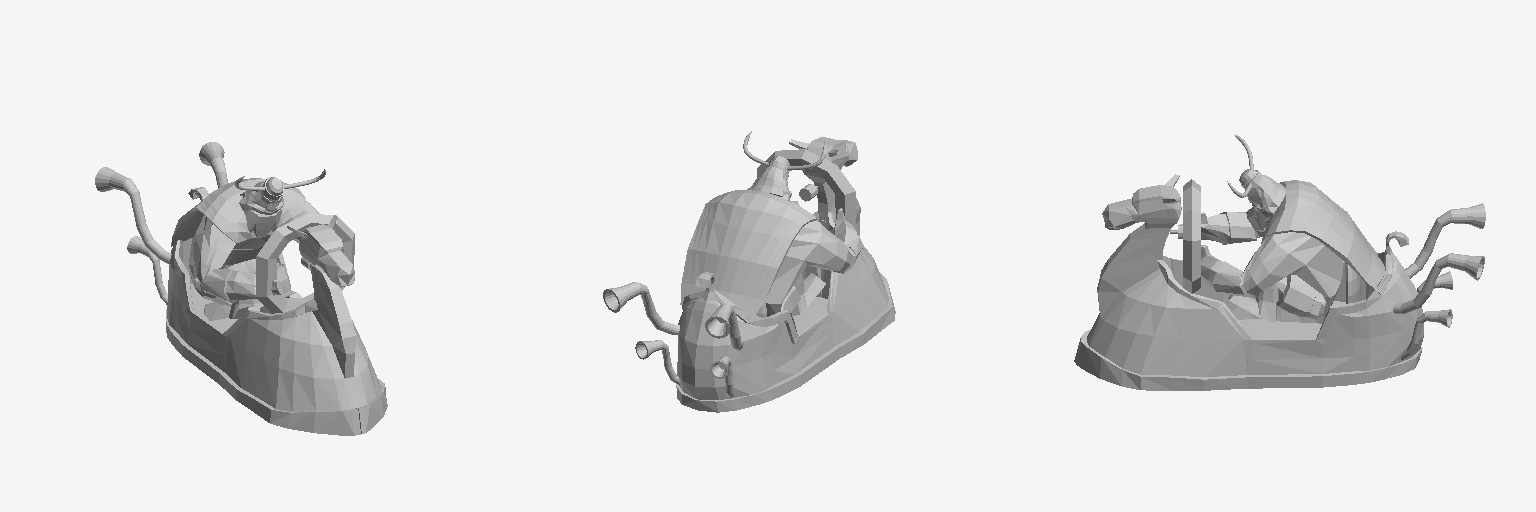
Rendered from vikingoVacile_000437.obj.
The picture shows the model from 3 angles: view 1: azimuth 30°, elevation 25°; view 2: azimuth 150°, elevation 25°; view 3: azimuth 270°, elevation 25°; orthographic projection.
Parts seen in each view (by area): view 1: kartVikingo, Vikingo; view 2: kartVikingo, Vikingo; view 3: kartVikingo, Vikingo.
Boxes of the visible parts, x1,y1,x2,y2 form: kartVikingo: [95, 142, 387, 435]; Vikingo: [171, 169, 325, 318]; kartVikingo: [603, 137, 895, 412]; Vikingo: [680, 131, 863, 319]; kartVikingo: [1074, 174, 1485, 390]; Vikingo: [1180, 134, 1384, 321].
Size of the model in its own units: 4.13 by 5.82 by 10.31.